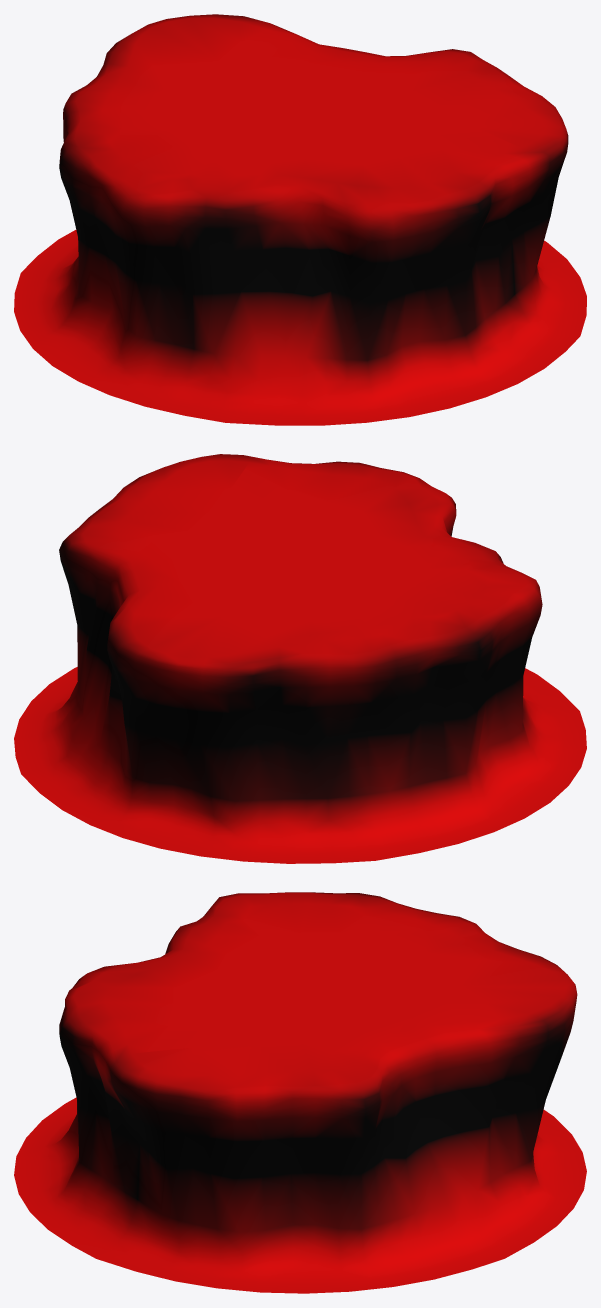
File: GroundObject07B.fbx
The picture shows the model from 3 angles, top to bottom: view 1: azimuth 30°, elevation 25°; view 2: azimuth 150°, elevation 25°; view 3: azimuth 270°, elevation 25°; orthographic projection.
Parts seen in each view (by area): view 1: GroundObject07B; view 2: GroundObject07B; view 3: GroundObject07B.
Boxes of the visible parts, box(x1,y1,x2,y2) form: GroundObject07B: box(14, 14, 586, 425); GroundObject07B: box(14, 454, 586, 863); GroundObject07B: box(14, 892, 586, 1293).
Size of the model in its own units: 2.81 by 1 by 2.81.
